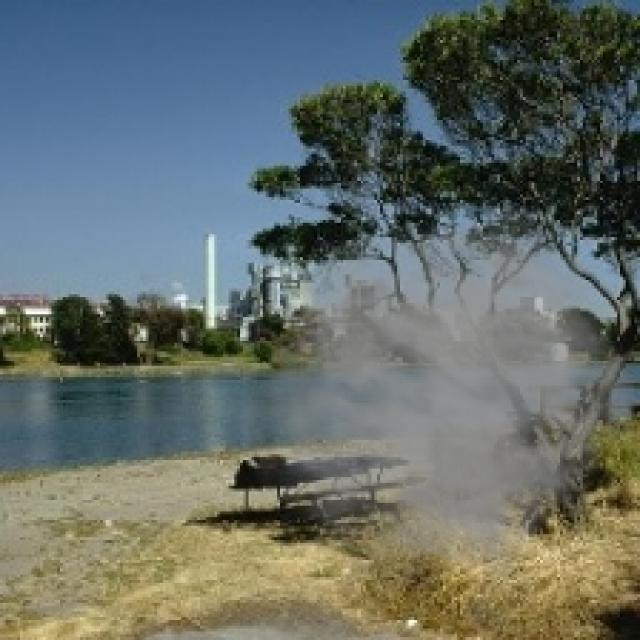smoke: (232, 206, 637, 603)
